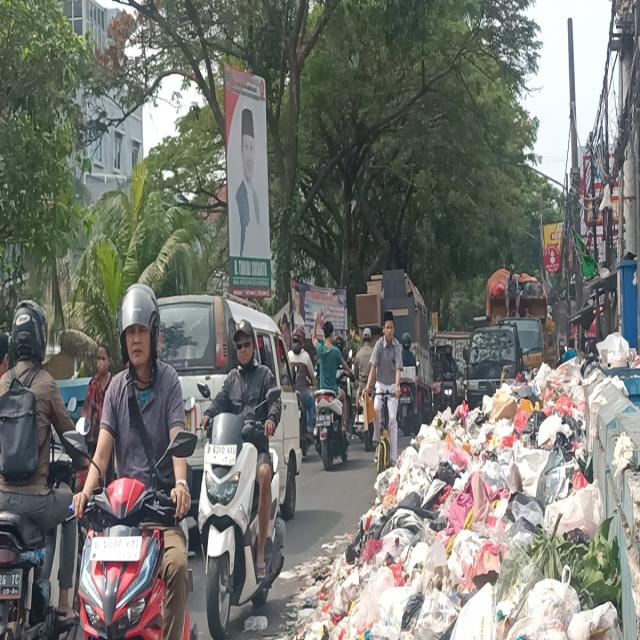trash: (349, 433, 640, 639)
